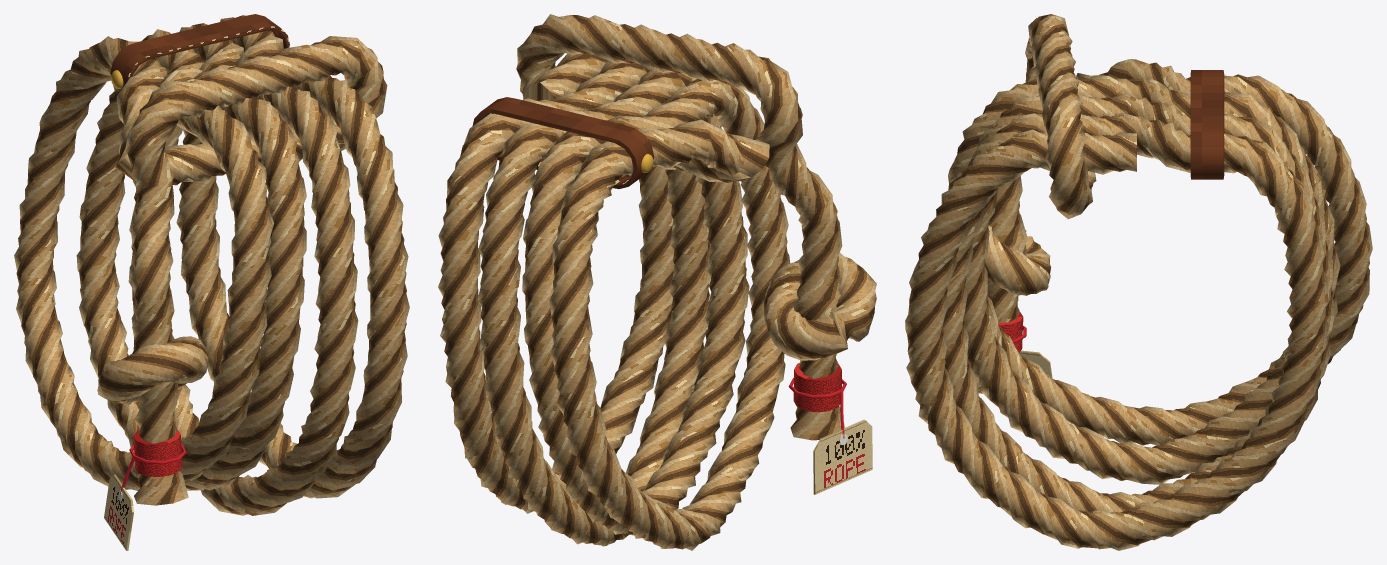
Rendered from w_lasso.glb.
3 renders of one model, left to right at view 1: azimuth 30°, elevation 25°; view 2: azimuth 150°, elevation 25°; view 3: azimuth 270°, elevation 25°, orthographic.
Parts seen in each view (by area): view 1: lasso_wzA, lasso_wzB, lasso_wzN; view 2: lasso_wzA, lasso_wzB, lasso_wzN; view 3: lasso_wzA, lasso_wzB.
Part boxes in pixels (left/top/right/bottom): lasso_wzA: left=14, top=15, right=409, bottom=515; lasso_wzB: left=110, top=14, right=289, bottom=477; lasso_wzN: left=104, top=444, right=186, bottom=550; lasso_wzA: left=438, top=14, right=876, bottom=550; lasso_wzB: left=472, top=97, right=841, bottom=412; lasso_wzN: left=788, top=378, right=872, bottom=494; lasso_wzA: left=905, top=14, right=1372, bottom=550; lasso_wzB: left=998, top=70, right=1224, bottom=352.
Bounding box in the file's own units: 0.2677 × 0.3855 × 0.3453.
8 materials, 5 textured.
